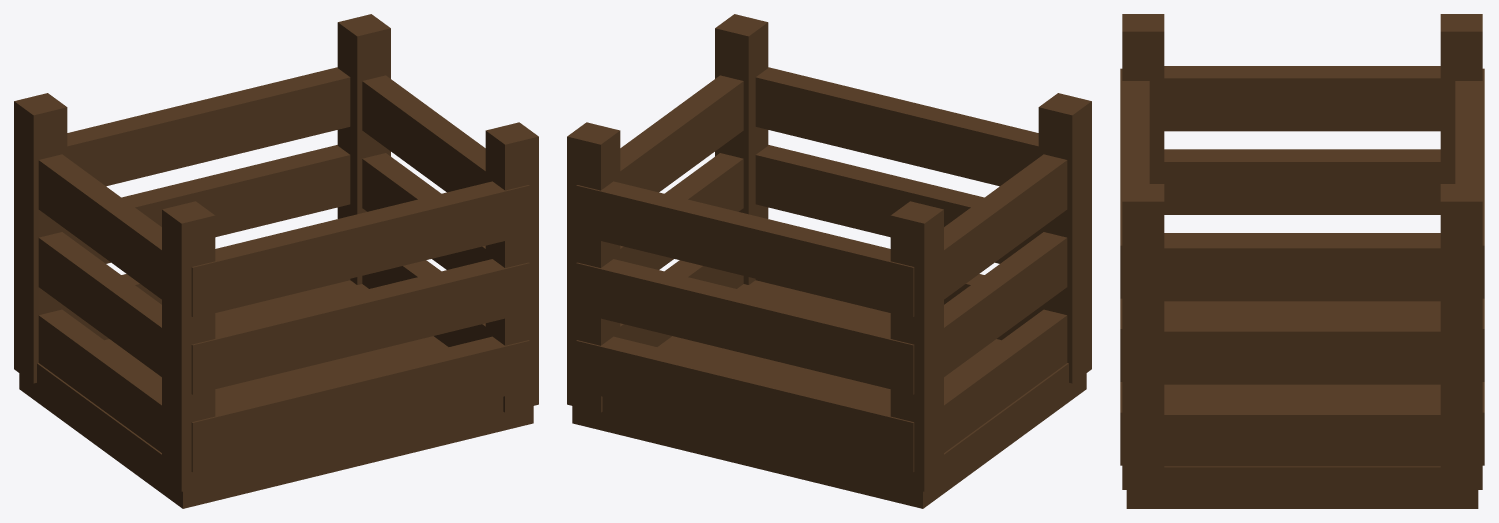
Rendered from crate_wood_80s.glb.
3 views of the same model, side by side, from view 1: azimuth 30°, elevation 25°; view 2: azimuth 150°, elevation 25°; view 3: azimuth 270°, elevation 25° (orthographic). The views are drawn at different scales.
Visible parts, largest first — view 1: wood__bottom, wood__front_slats, _MeshInstance3D_153, _MeshInstance3D_149, _MeshInstance3D_154, _MeshInstance3D_146, _MeshInstance3D_150, wood__corner_post, _MeshInstance3D_151, _MeshInstance3D_155, wood__left_slats, _MeshInstance3D_156 (+5 smaller); view 2: wood__bottom, wood__back_slats, _MeshInstance3D_154, _MeshInstance3D_150, _MeshInstance3D_153, wood__corner_post, _MeshInstance3D_149, _MeshInstance3D_146, _MeshInstance3D_151, _MeshInstance3D_155, wood__left_slats, _MeshInstance3D_156 (+5 smaller); view 3: wood__bottom, _MeshInstance3D_156, _MeshInstance3D_151, _MeshInstance3D_152, _MeshInstance3D_155, wood__right_slats, _MeshInstance3D_147, _MeshInstance3D_148, wood__corner_post, _MeshInstance3D_146, _MeshInstance3D_153, _MeshInstance3D_154 (+1 smaller).
Boxes of the visible parts, bbox=[...] form: wood__bottom: bbox=[19, 280, 533, 508]; wood__front_slats: bbox=[191, 336, 529, 472]; _MeshInstance3D_153: bbox=[191, 181, 529, 316]; _MeshInstance3D_149: bbox=[191, 259, 529, 394]; _MeshInstance3D_154: bbox=[67, 67, 350, 186]; _MeshInstance3D_146: bbox=[162, 201, 215, 491]; _MeshInstance3D_150: bbox=[67, 145, 350, 263]; wood__corner_post: bbox=[14, 93, 67, 383]; _MeshInstance3D_151: bbox=[38, 232, 161, 376]; _MeshInstance3D_155: bbox=[38, 154, 161, 299]; wood__left_slats: bbox=[38, 309, 161, 452]; _MeshInstance3D_156: bbox=[362, 75, 485, 192]; wood__bottom: bbox=[572, 280, 1086, 508]; wood__back_slats: bbox=[576, 336, 914, 472]; _MeshInstance3D_154: bbox=[576, 181, 914, 316]; _MeshInstance3D_150: bbox=[576, 259, 914, 394]; _MeshInstance3D_153: bbox=[755, 67, 1038, 186]; wood__corner_post: bbox=[890, 201, 943, 491]; _MeshInstance3D_149: bbox=[755, 145, 1038, 263]; _MeshInstance3D_146: bbox=[1038, 93, 1091, 383]; _MeshInstance3D_151: bbox=[944, 232, 1067, 376]; _MeshInstance3D_155: bbox=[944, 154, 1067, 299]; wood__left_slats: bbox=[944, 309, 1067, 452]; _MeshInstance3D_156: bbox=[620, 75, 743, 192]; wood__bottom: bbox=[1126, 301, 1478, 508]; _MeshInstance3D_156: bbox=[1164, 235, 1440, 301]; _MeshInstance3D_151: bbox=[1164, 149, 1440, 214]; _MeshInstance3D_152: bbox=[1164, 319, 1440, 384]; _MeshInstance3D_155: bbox=[1164, 66, 1440, 131]; wood__right_slats: bbox=[1164, 402, 1440, 466]; _MeshInstance3D_147: bbox=[1440, 184, 1482, 489]; _MeshInstance3D_148: bbox=[1122, 184, 1164, 489]; wood__corner_post: bbox=[1440, 14, 1482, 183]; _MeshInstance3D_146: bbox=[1122, 14, 1164, 183]; _MeshInstance3D_153: bbox=[1120, 68, 1149, 298]; _MeshInstance3D_154: bbox=[1455, 68, 1484, 298].
Size of the model in its own units: 0.53 by 0.4075 by 0.435.
